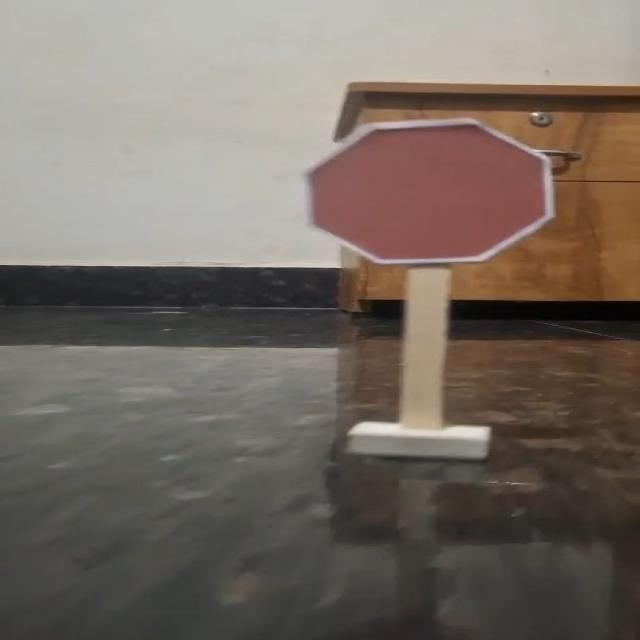Stop: (276, 110, 576, 276)
